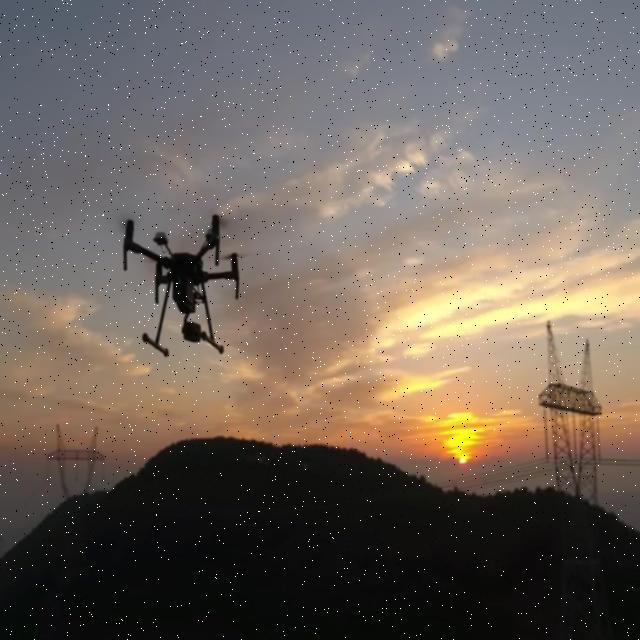UAV: (120, 214, 248, 358)
